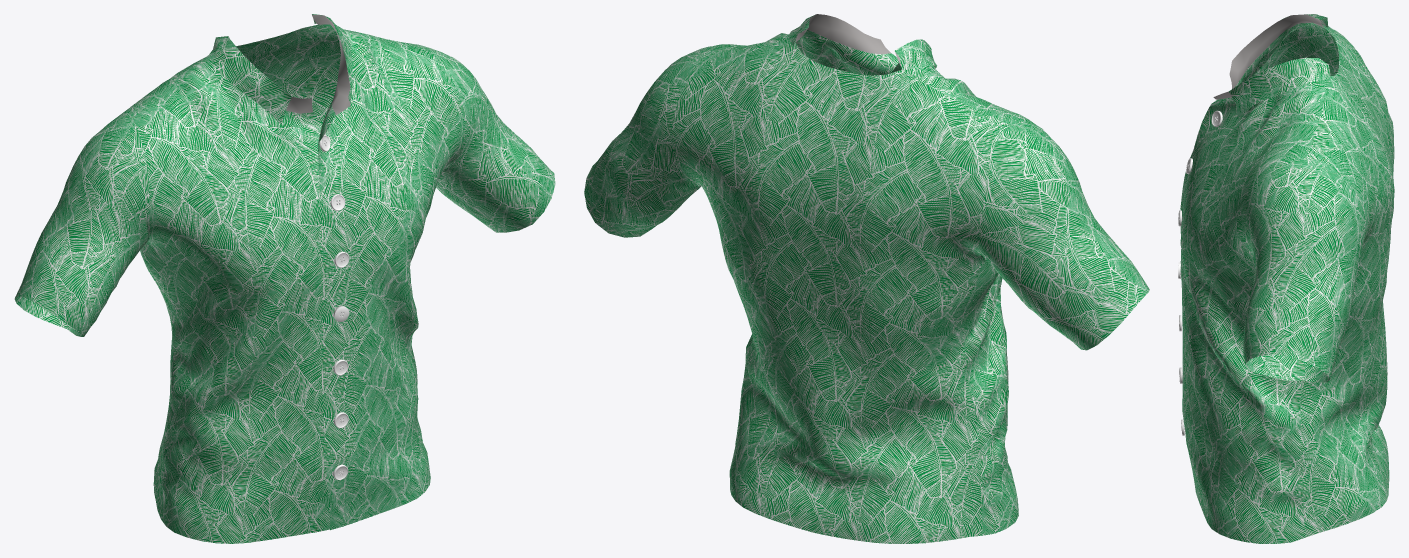
The model's file is Baju_Pendek.fbx.
3 views of the same model, side by side, from view 1: azimuth 30°, elevation 25°; view 2: azimuth 150°, elevation 25°; view 3: azimuth 270°, elevation 25° (orthographic). The views are drawn at different scales.
Visible parts, largest first — view 1: Baju_Pendek.007; view 2: Baju_Pendek.007; view 3: Baju_Pendek.007.
Part boxes in pixels (<box>): Baju_Pendek.007: <box>14,14,555,543</box>; Baju_Pendek.007: <box>584,14,1149,543</box>; Baju_Pendek.007: <box>1178,14,1394,543</box>.
Bounding box in the file's own units: 736 × 619 × 268.
4 materials, 2 textured.
